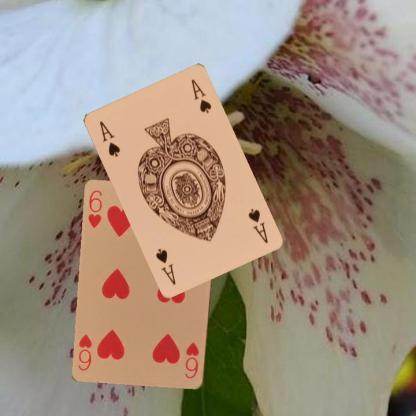6h: (86, 188, 104, 230), (182, 339, 200, 380)
As: (96, 118, 122, 158), (246, 206, 268, 244)
